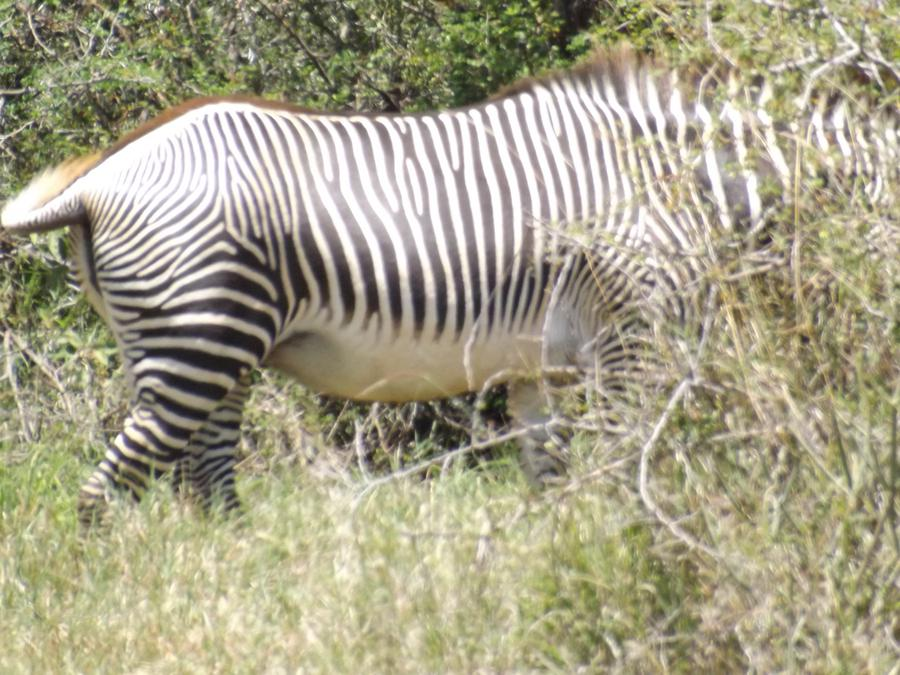zebra_grevys: (69, 71, 611, 353)
